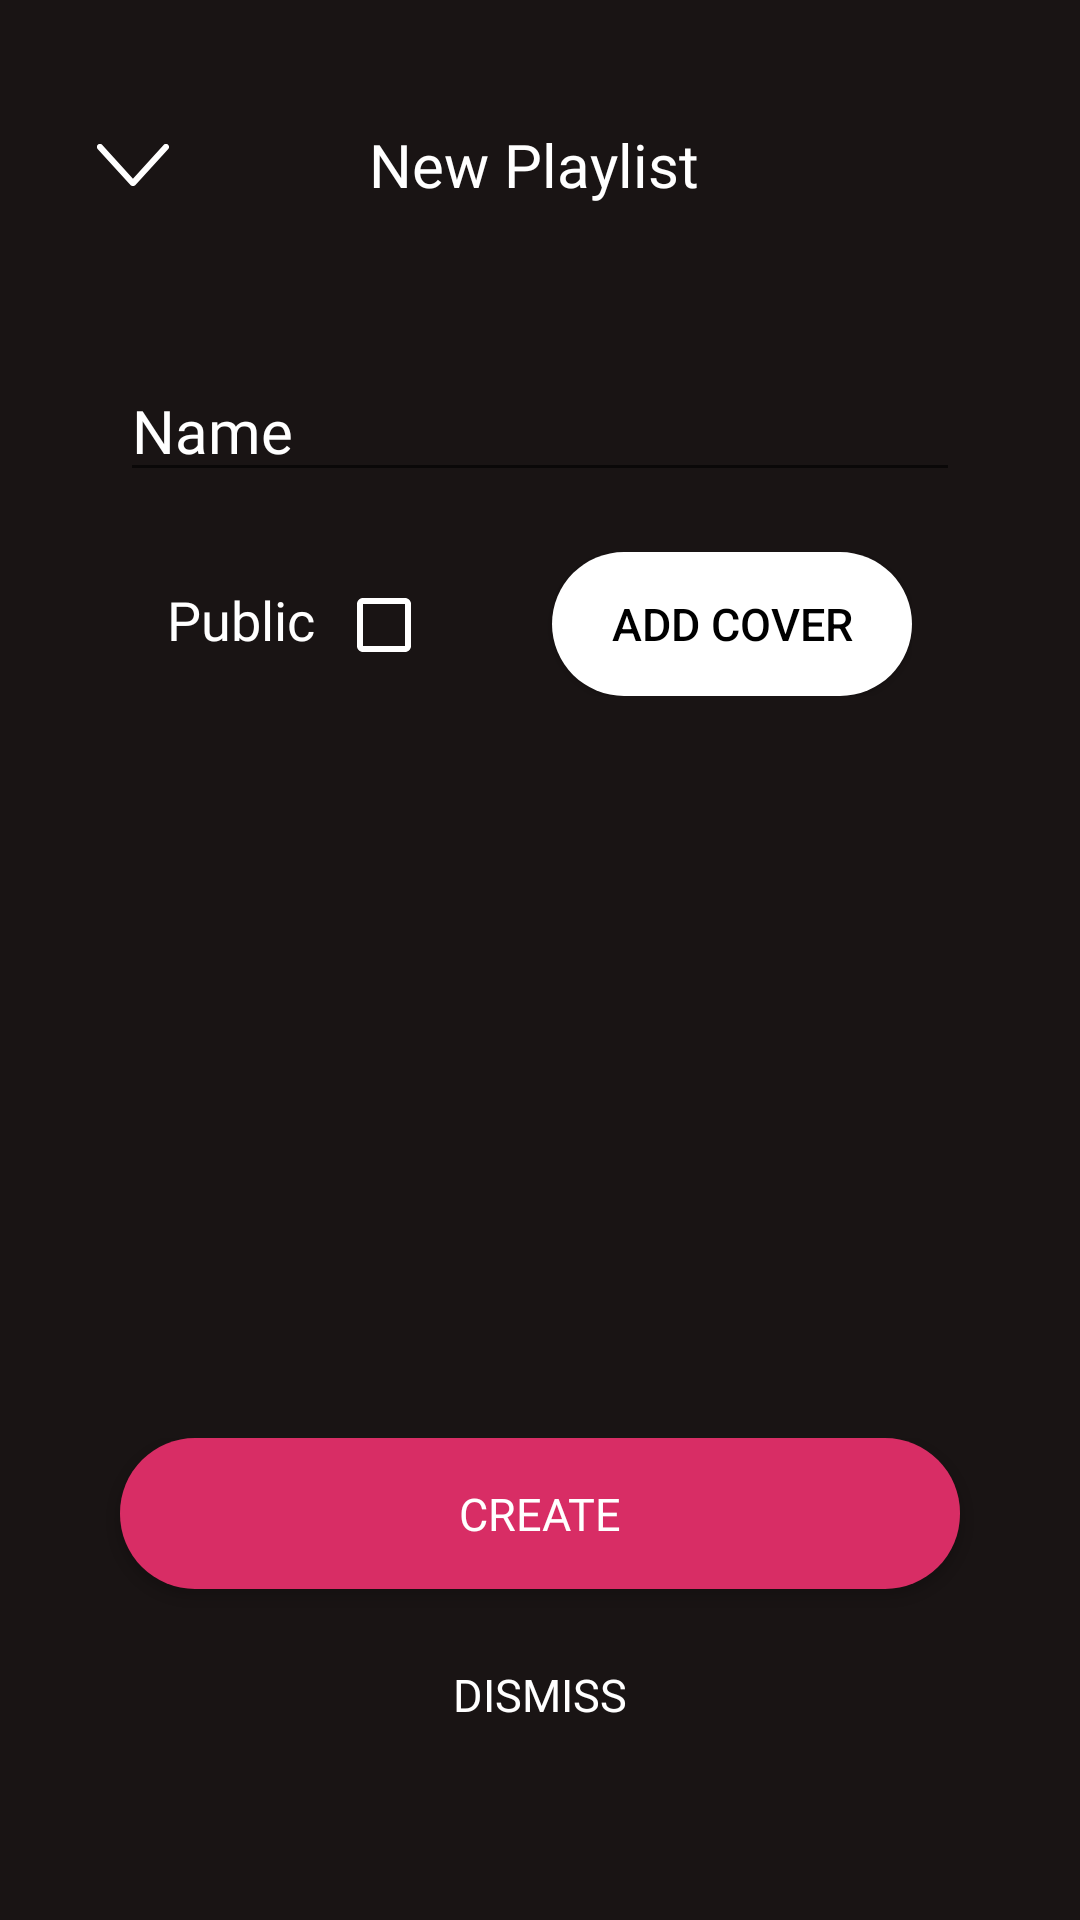

Point at icon controls on the screen. Image size 1080 x 1920, points as [x,y].
arrow down: [133,165]
